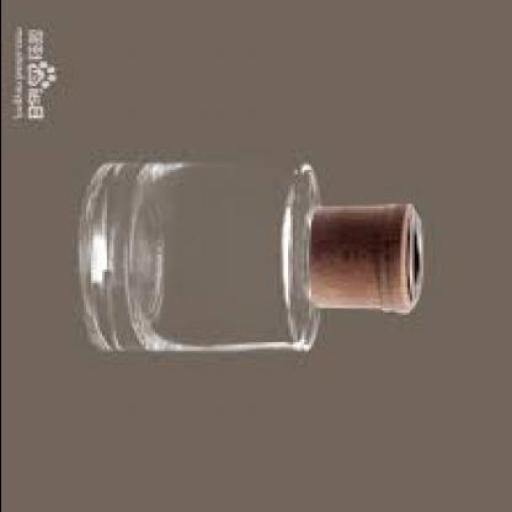glass: (80, 161, 324, 353)
